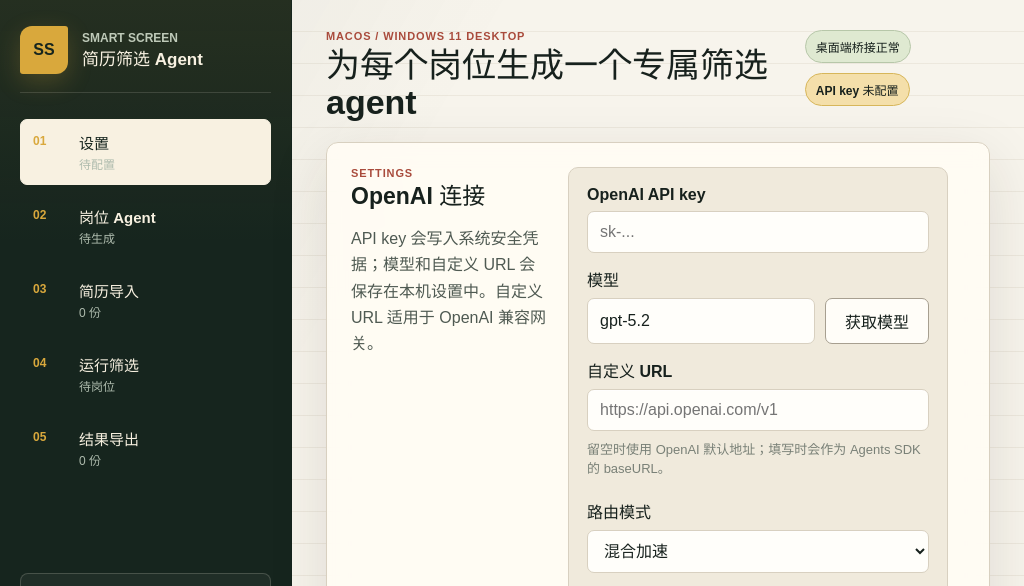
it: App smoke flow › shows live screening progress while resumes are being screened
Click the button "02 岗位 Agent 待生成": {"x": 146, "y": 226} [20,193,271,259]
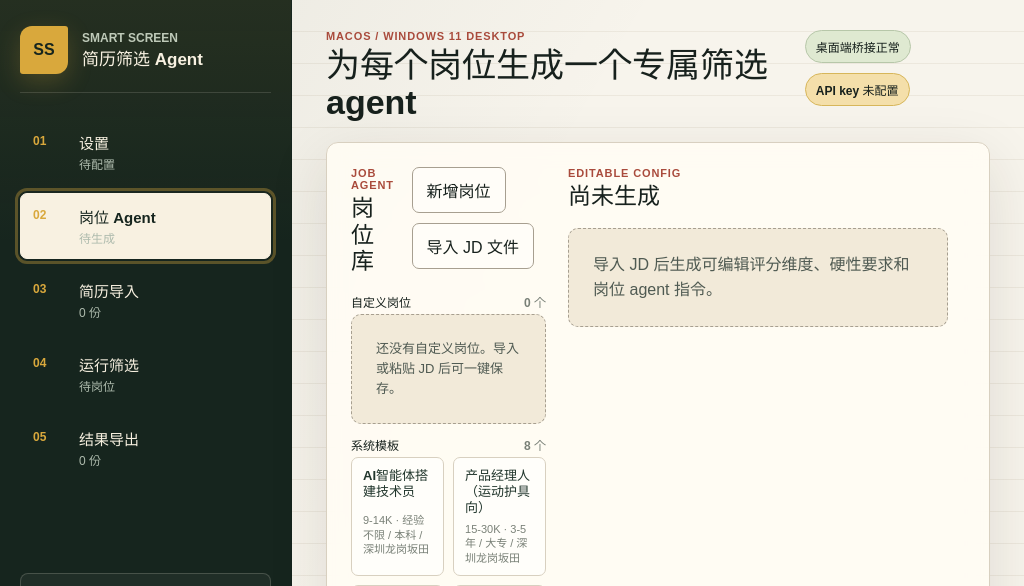
Click the button with aria-label "编辑 AI智能体搭建技术员": {"x": 398, "y": 517} [351,457,444,576]
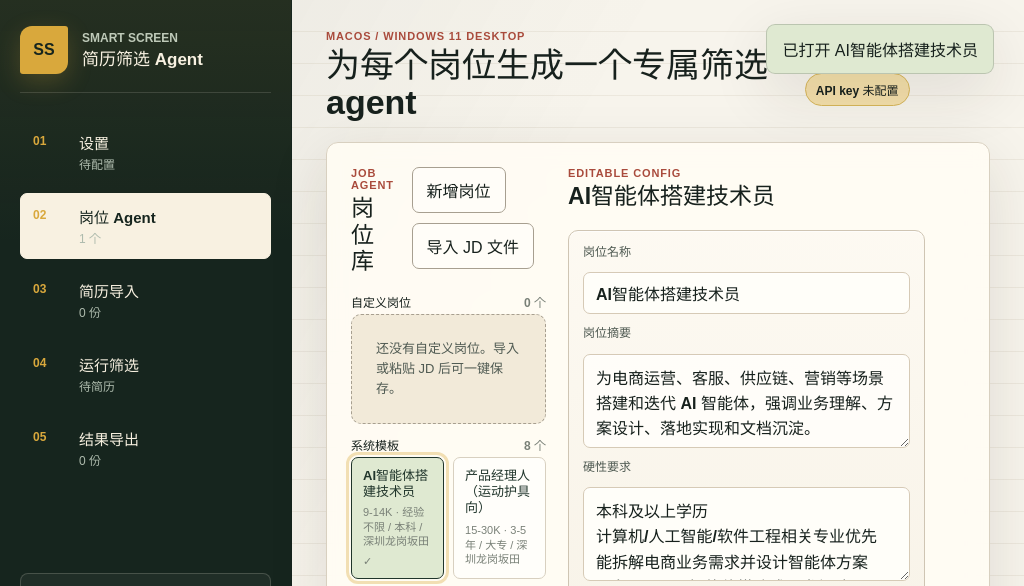
Click the button "03 简历导入 0 份": {"x": 146, "y": 300} [20,267,271,333]
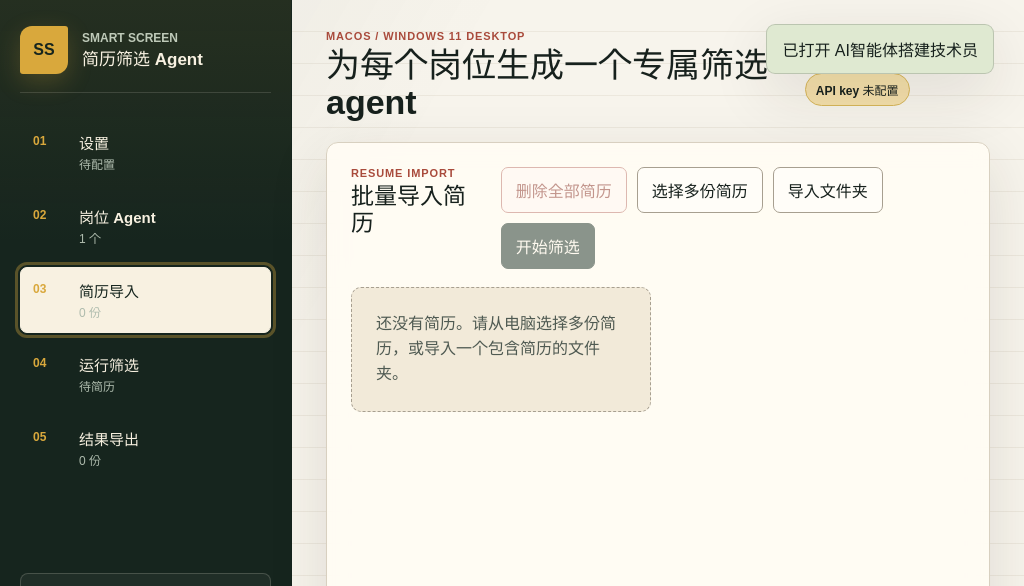
Click the button "选择多份简历": {"x": 700, "y": 190} [637,167,763,213]
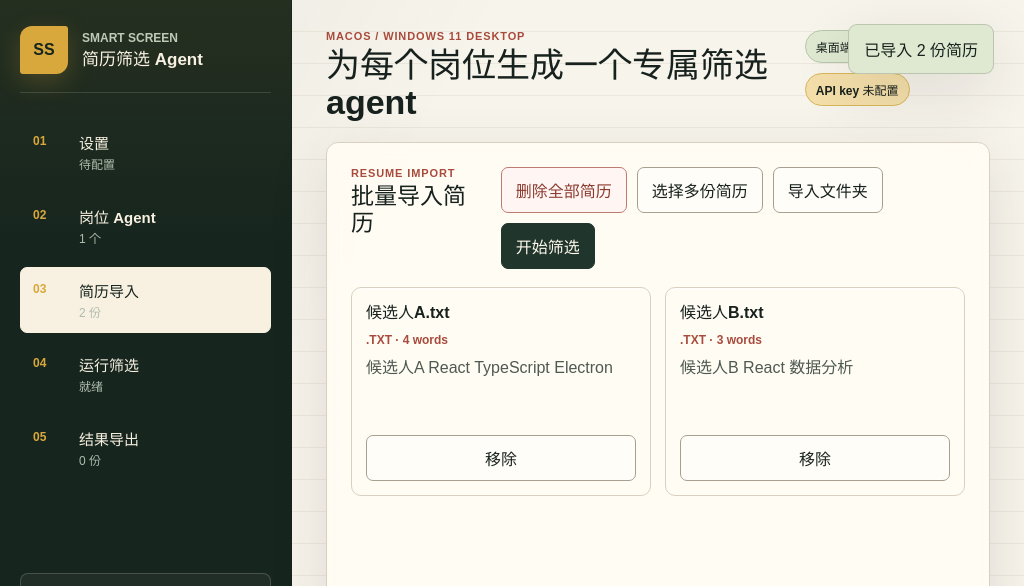
Click the button "开始筛选": {"x": 548, "y": 246} [501,223,595,269]
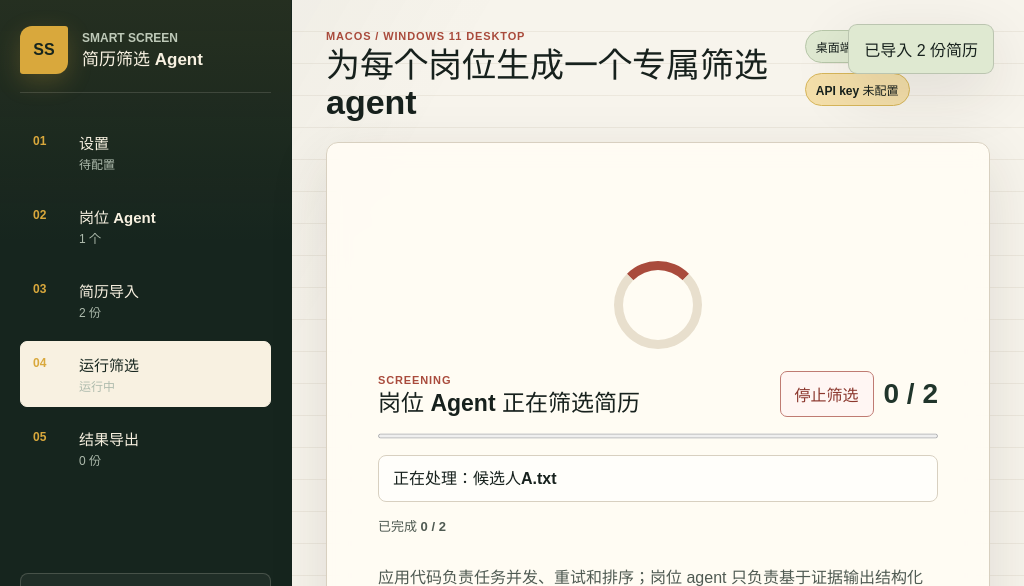
Expected: the text "正在处理：候选人A.txt" is shown, [378,455,938,502]
